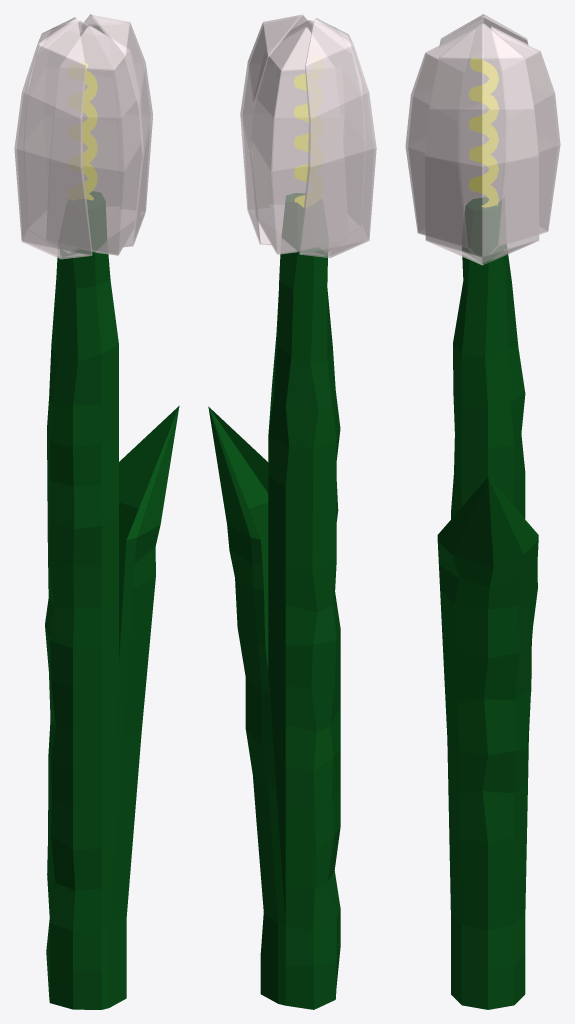
Rendered from IntellectWeed.fbx.
3 renders of one model, left to right at view 1: azimuth 30°, elevation 25°; view 2: azimuth 150°, elevation 25°; view 3: azimuth 270°, elevation 25°, orthographic.
Visible parts, largest first — view 1: Circle; view 2: Circle; view 3: Circle.
Part boxes in pixels (x1,y1,x2,y2): Circle: [14, 14, 179, 1009]; Circle: [208, 14, 376, 1009]; Circle: [405, 14, 560, 1009].
Bounding box in the file's own units: 187 × 1050 × 152.
